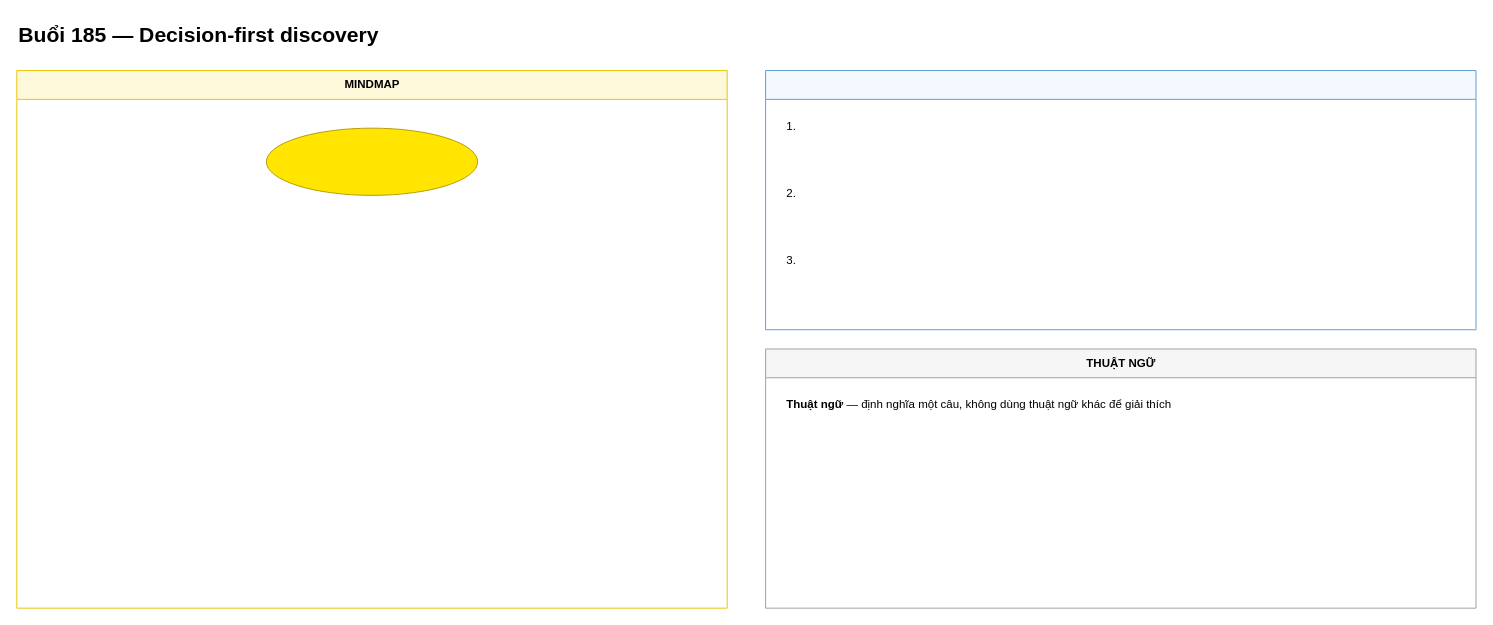
The diagram is 1493 pixels wide and 625 high, and some of its shapes have lost their labels. The shapes that lost their labels are listed below. From the top down, each one's box as (x1, y1, x2, y2) in pixels, then its label:
(265, 127, 478, 195): Decision-first discovery
(765, 70, 1476, 330): KEY TAKEAWAY — ba điều phải nhớ
